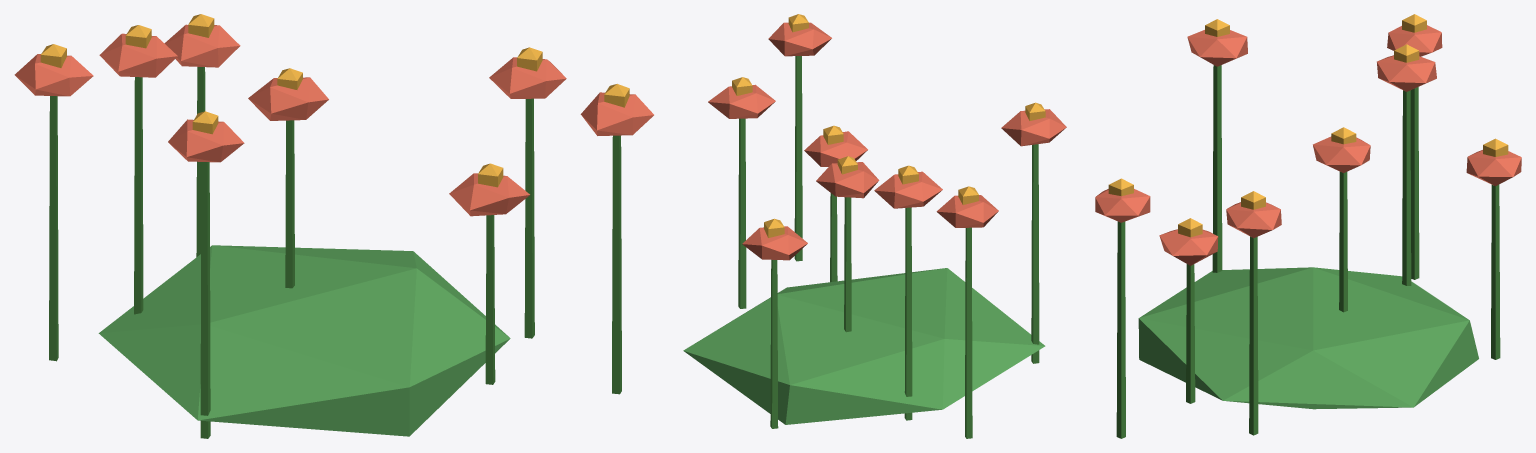
Rendered from flowers-red.glb.
3 views of the same model, side by side, from view 1: azimuth 30°, elevation 25°; view 2: azimuth 150°, elevation 25°; view 3: azimuth 270°, elevation 25° (orthographic). The views are drawn at different scales.
Parts seen in each view (by area): view 1: flowers; view 2: flowers; view 3: flowers.
Boxes of the visible parts, x1,y1,x2,y2 form: flowers: [14, 14, 653, 438]; flowers: [683, 14, 1066, 438]; flowers: [1095, 14, 1521, 438].
Size of the model in its own units: 0.9004 by 0.6602 by 0.8906.
